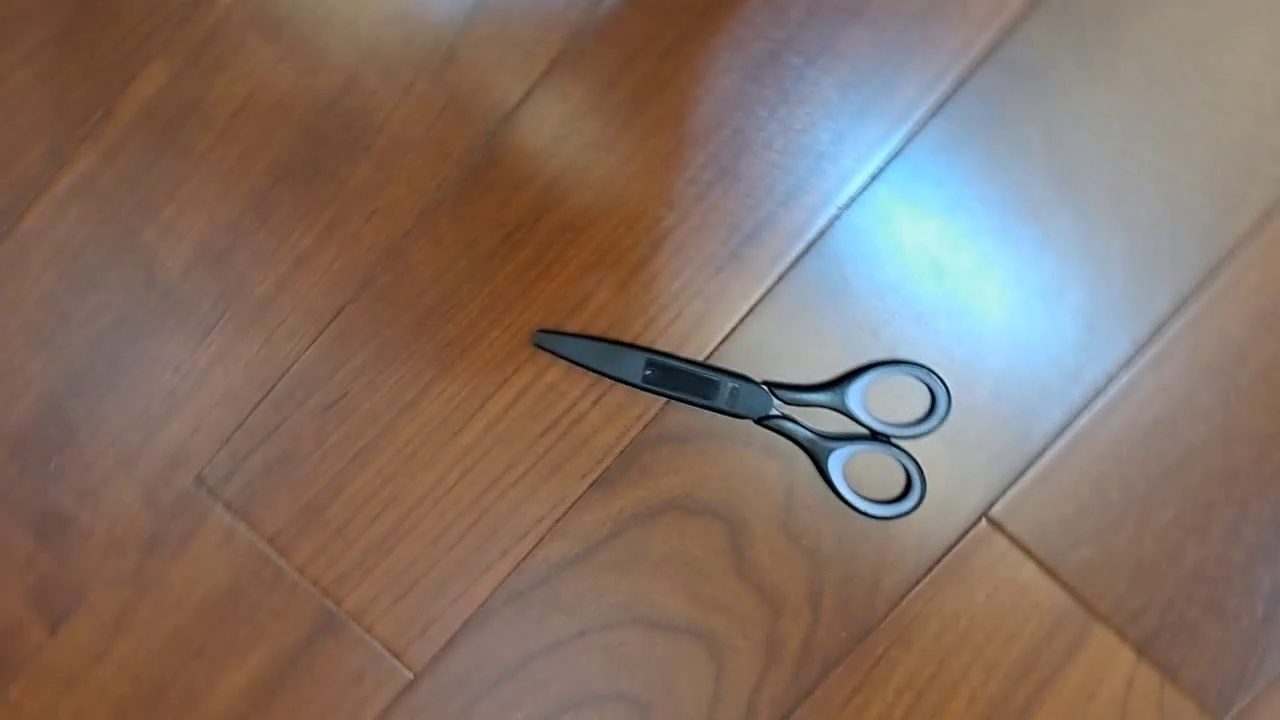scissors: (528, 327, 952, 521)
